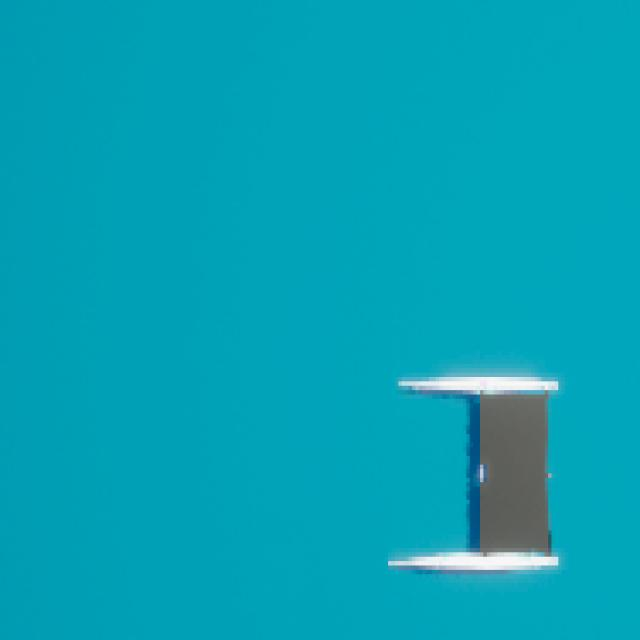boat: (387, 370, 568, 589)
drone: (482, 396, 548, 550)
